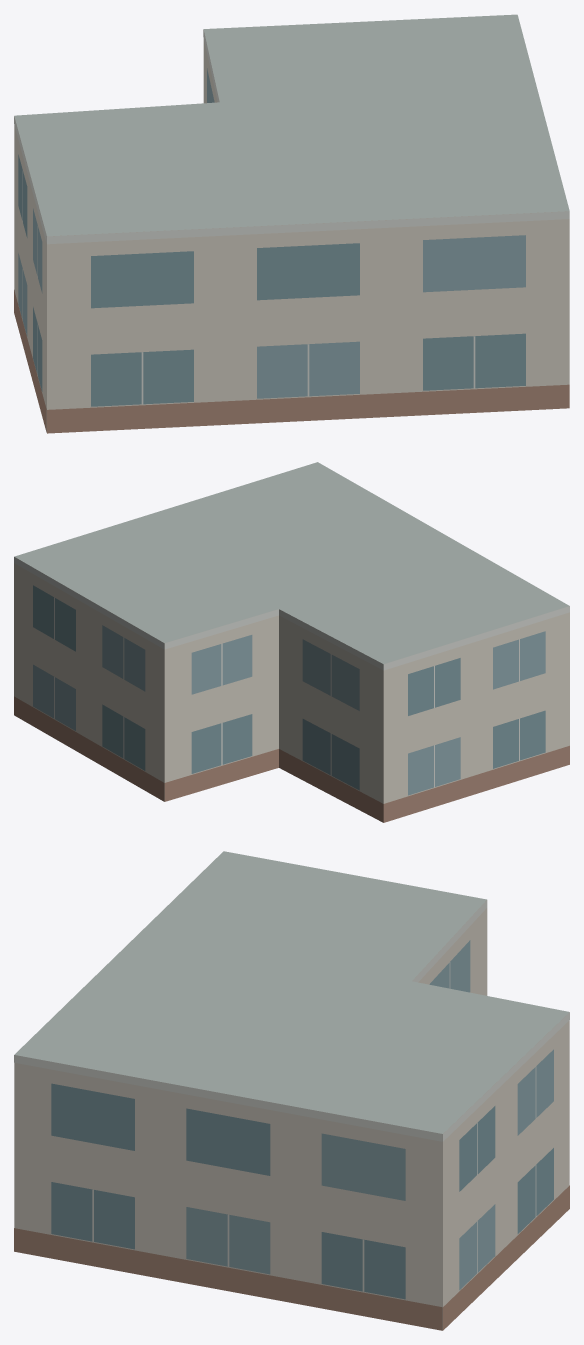
Rendered from survey-upis-32744678.glb.
3 views of the same model, one above another, from view 1: azimuth 30°, elevation 25°; view 2: azimuth 150°, elevation 25°; view 3: azimuth 270°, elevation 25° (orthographic). The views are drawn at different scales.
Parts seen in each view (by area): view 1: survey-upis-32744678.tmp; view 2: survey-upis-32744678.tmp; view 3: survey-upis-32744678.tmp.
Part boxes in pixels (x1=…): survey-upis-32744678.tmp: x1=14, y1=14, x2=569, y2=433; survey-upis-32744678.tmp: x1=14, y1=462, x2=569, y2=822; survey-upis-32744678.tmp: x1=14, y1=851, x2=569, y2=1330.
Size of the model in its own units: 18.82 by 6.1 by 15.62.
